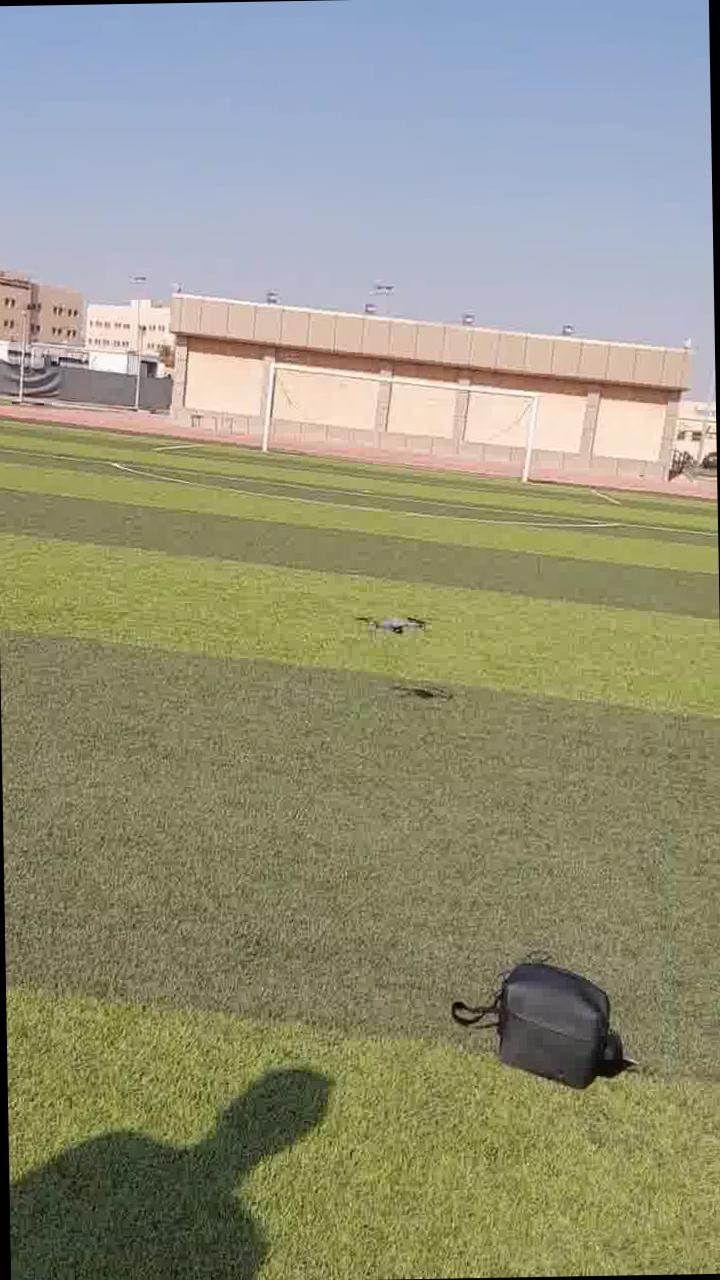drone: (347, 578, 441, 652)
